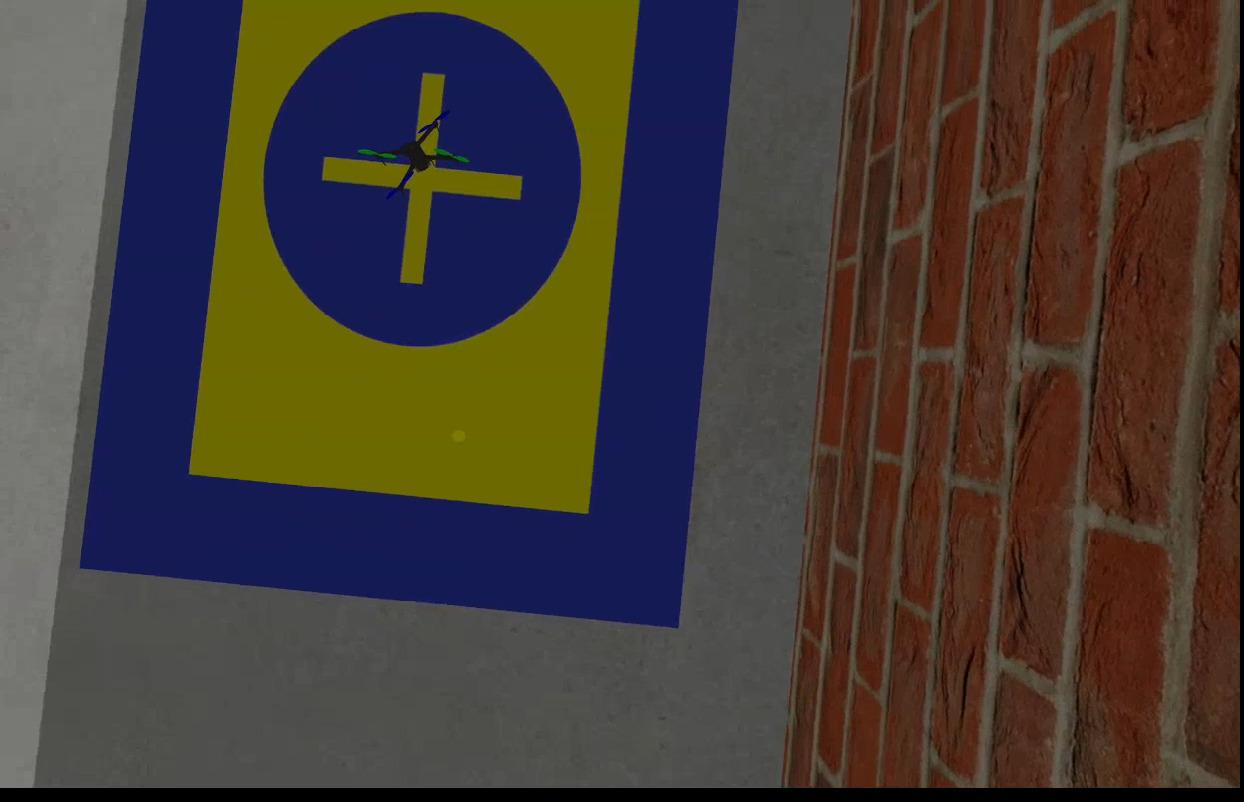large_base: (77, 1, 745, 631)
